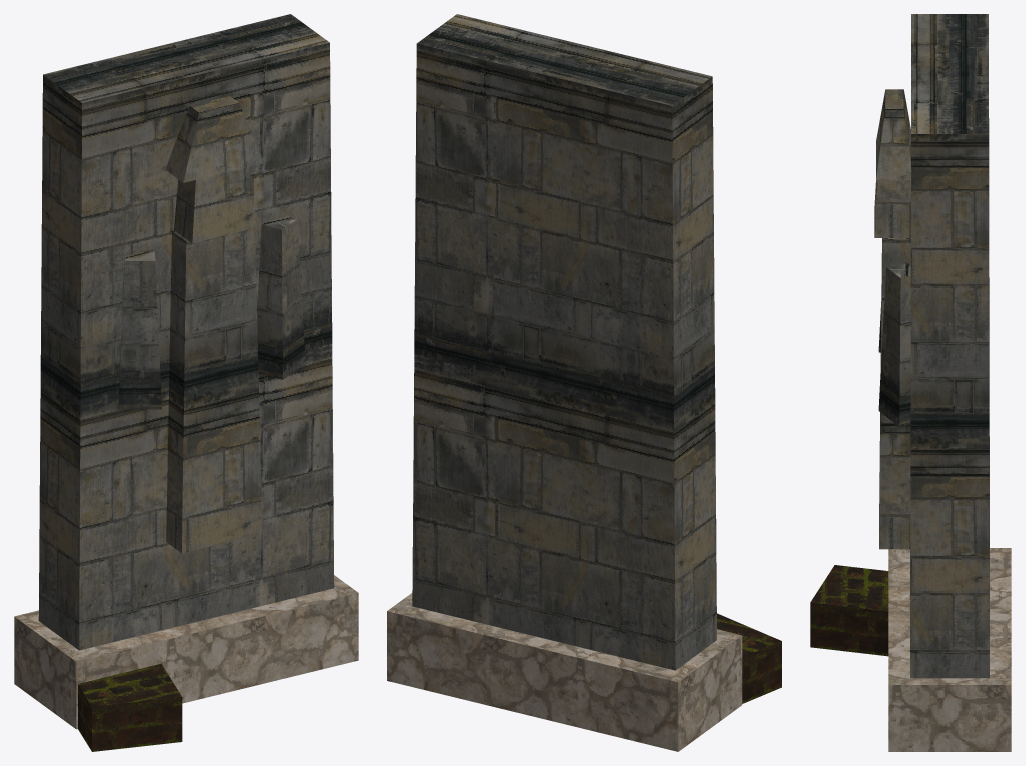
Rendered from temple_statue_apsara_02.glb.
3 views of the same model, side by side, from view 1: azimuth 30°, elevation 25°; view 2: azimuth 150°, elevation 25°; view 3: azimuth 270°, elevation 25° (orthographic). The views are drawn at different scales.
Parts seen in each view (by area): view 1: temple_statue_apsara_02; view 2: temple_statue_apsara_02; view 3: temple_statue_apsara_02.
Boxes of the visible parts, x1,y1,x2,y2 form: temple_statue_apsara_02: (14,14,358,751); temple_statue_apsara_02: (387,14,781,751); temple_statue_apsara_02: (810,14,1011,751).
Size of the model in its own units: 1.09 by 2.18 by 0.6532.
3 materials, 3 textured.
